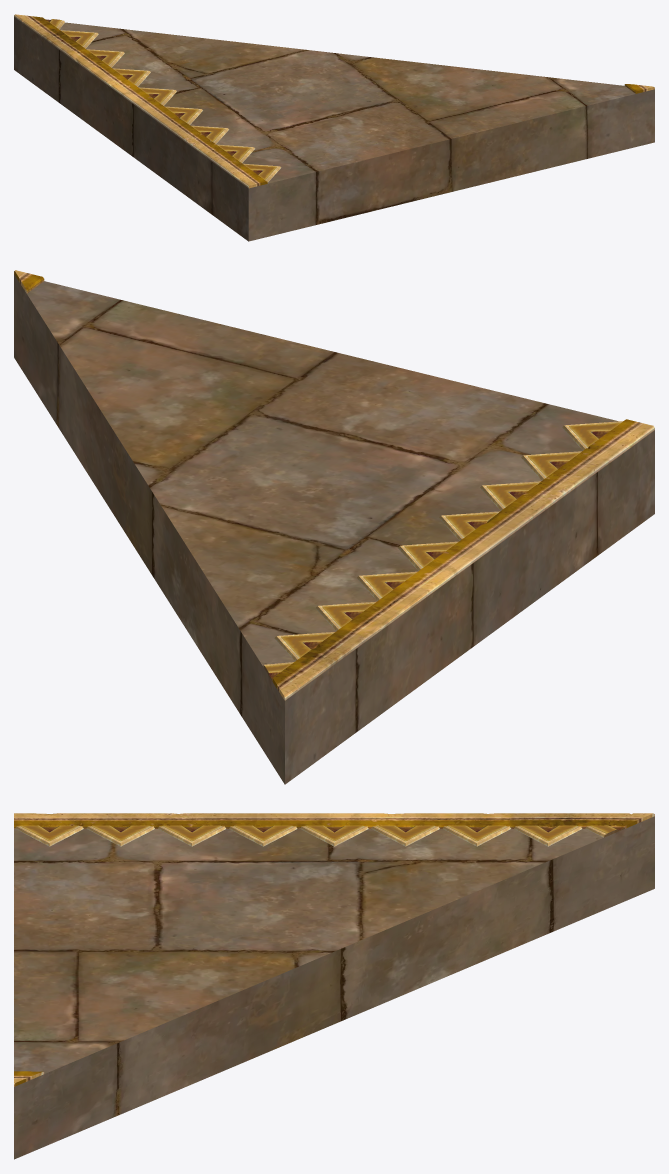
The picture shows the model from 3 angles, top to bottom: view 1: azimuth 30°, elevation 25°; view 2: azimuth 150°, elevation 25°; view 3: azimuth 270°, elevation 25°; orthographic projection. The views are drawn at different scales.
Parts seen in each view (by area): view 1: SM_Vault_4m_Triangular_Floor_01_LOD0; view 2: SM_Vault_4m_Triangular_Floor_01_LOD0; view 3: SM_Vault_4m_Triangular_Floor_01_LOD0.
Part boxes in pixels (x1,y1,x2,y2): SM_Vault_4m_Triangular_Floor_01_LOD0: (14,14,654,241); SM_Vault_4m_Triangular_Floor_01_LOD0: (14,270,654,784); SM_Vault_4m_Triangular_Floor_01_LOD0: (14,813,654,1159).
Bounding box in the file's own units: 4 × 0.5233 × 4.
Materials: 4 (4 with a texture image).
